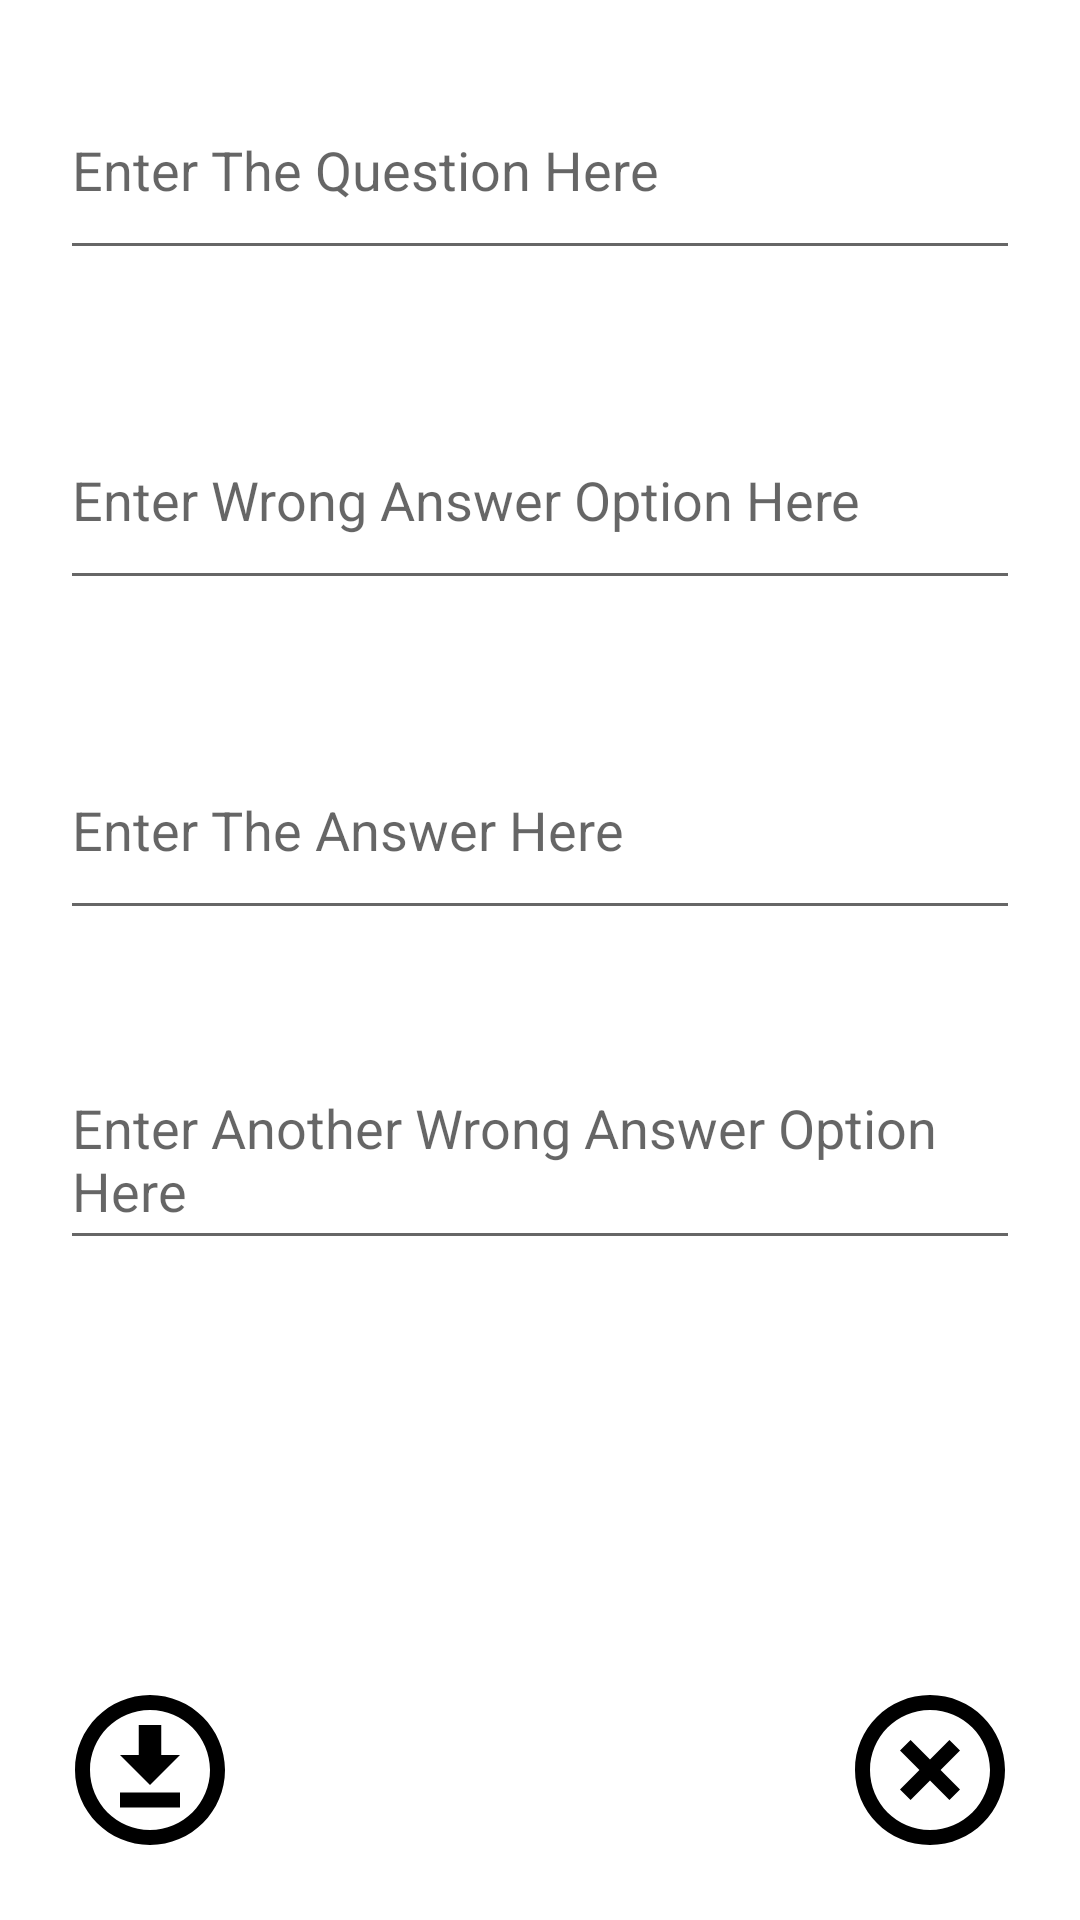

Screen size 1080x1920. Icon name, then its center in pixels as (x=x, y=y):
cancel: (x=930, y=1770)
save: (x=150, y=1770)
